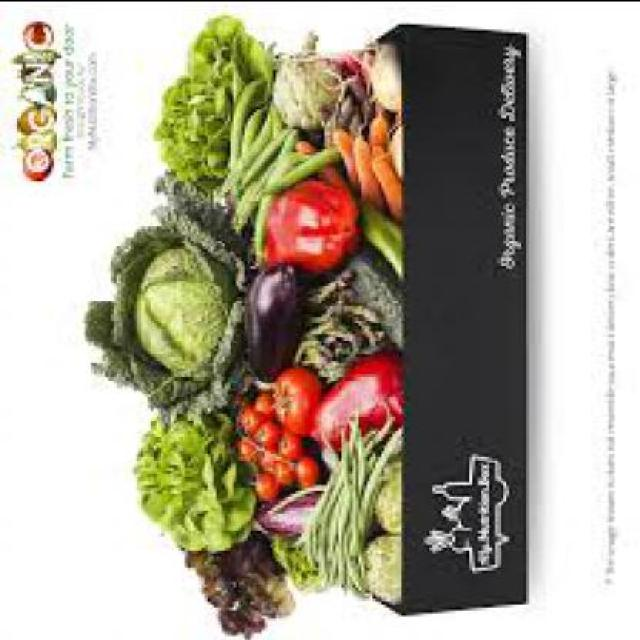BIODEGRADABLE: (82, 172, 242, 420), (148, 21, 268, 196), (298, 410, 396, 595), (128, 413, 254, 555), (182, 534, 292, 638), (254, 177, 355, 281), (250, 144, 336, 264), (270, 37, 356, 141), (290, 279, 378, 378), (307, 358, 398, 449), (204, 112, 284, 213), (224, 134, 296, 231), (244, 267, 296, 390), (342, 248, 398, 352), (225, 82, 268, 180), (248, 486, 322, 540), (270, 370, 322, 435), (358, 204, 398, 284), (362, 534, 398, 606), (364, 150, 398, 222), (373, 454, 398, 534), (348, 139, 375, 210), (368, 49, 395, 113), (270, 543, 307, 586), (330, 129, 353, 193), (384, 121, 401, 170), (367, 111, 387, 151), (291, 456, 315, 486), (267, 458, 290, 489), (250, 472, 273, 503), (250, 393, 270, 424), (278, 435, 298, 463), (253, 427, 276, 451), (236, 407, 253, 438), (236, 442, 256, 466)
CARDBOARD: (364, 26, 524, 617)
